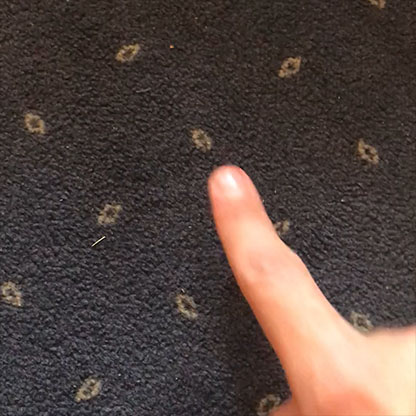fingertip: (194, 148, 266, 213)
